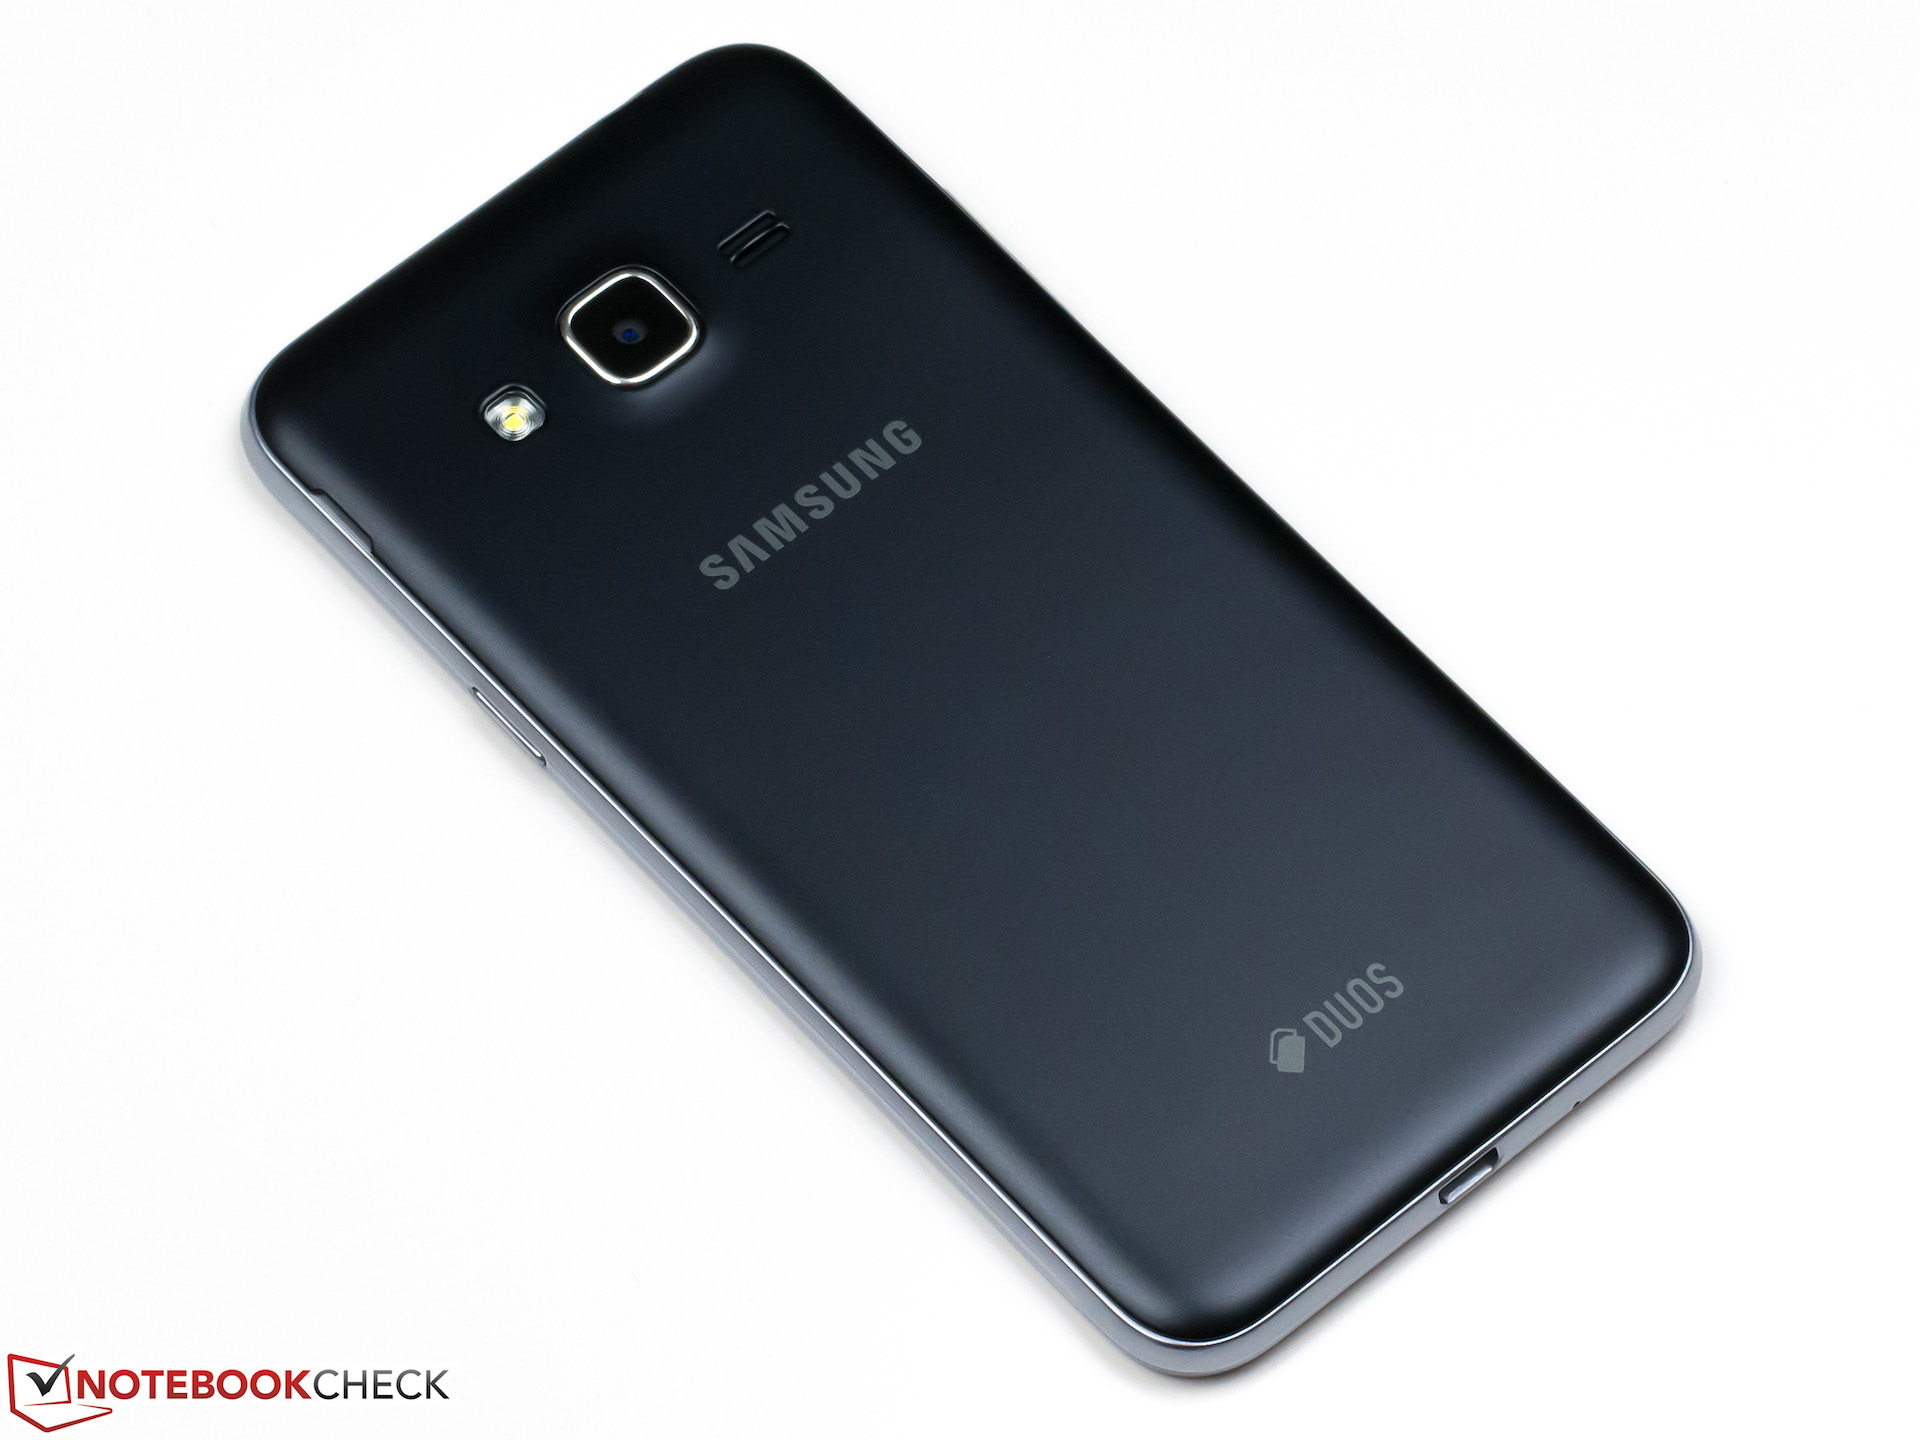smartphone: (239, 42, 1705, 1387)
